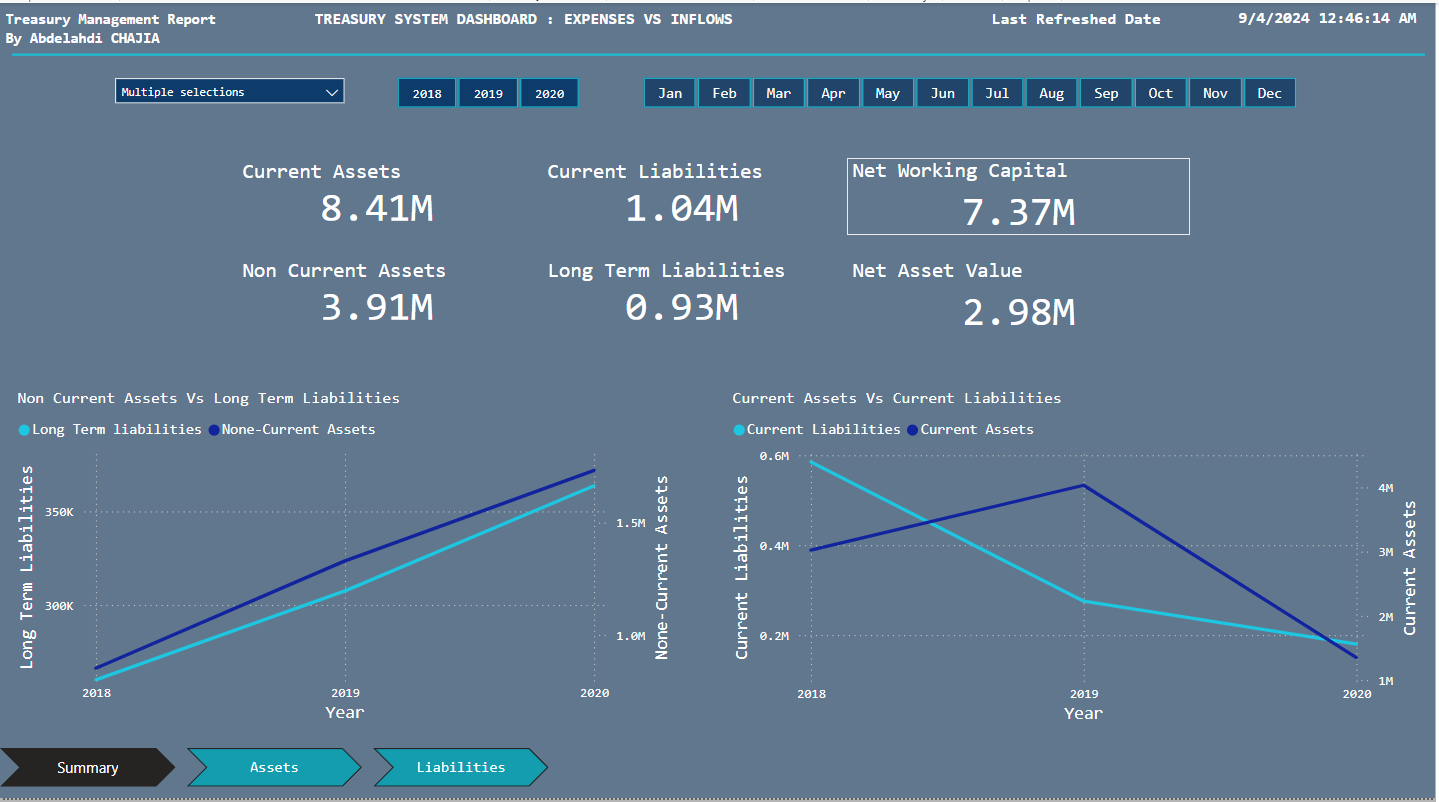

The dashboard page shown, as its layout file describes it:
{"tool":"powerbi","page":{"name":"Summary","canvas":[1300,720],"ordinal":0},"visuals":[{"type":"textbox","box":[279.6,0,567,33.6],"z":0},{"type":"textbox","box":[0,0,209.4,47.4],"z":1000},{"type":"card","fields":{"Values":["Min(Date & Time.Date & Time)"]},"box":[1103.9,0,196.6,24.1],"z":2000},{"type":"textbox","box":[893,0,185.7,33.6],"z":3000},{"type":"slicer","fields":{"Values":["GL.Classe"]},"box":[94.4,58.3,227.9,44.3],"z":4000},{"type":"slicer","fields":{"Values":["Calendar.Year"]},"box":[334.4,60.9,214.4,41.5],"z":5000},{"type":"slicer","fields":{"Values":["GL.Month"]},"box":[556.7,60.9,641.1,41.5],"z":6000},{"type":"shape","box":[10.9,41,1280,12.1],"z":7000},{"type":"pageNavigator","box":[0,674.7,497.9,35.6],"z":8000},{"type":"card","title":"Non Current Assets","fields":{"Values":["GL.None-Current Assets"]},"box":[215,230.9,252.9,61.2],"z":9000},{"type":"card","title":"Current Assets","fields":{"Values":["GL.Current Assets"]},"box":[215,141,252.9,61.2],"z":10000},{"type":"card","title":"Current Liabilities","fields":{"Values":["GL.Current Liabilities"]},"box":[490.7,141,252.9,61.2],"z":11000},{"type":"card","title":"Long Term Liabilities","fields":{"Values":["GL.Long Term liabilities"]},"box":[490.7,230.9,252.9,61.2],"z":12000},{"type":"lineChart","title":"Non Current Assets Vs Long Term Liabilities","fields":{"Category":["GL.Year"],"Y2":["GL.None-Current Assets"],"Y":["GL.Long Term liabilities"]},"box":[11.3,349.9,603.3,307.8],"z":13000},{"type":"lineChart","title":"Current Assets Vs Current  Liabilities","fields":{"Category":["GL.Year"],"Y2":["GL.Current Assets"],"Y":["GL.Current Liabilities"]},"box":[658.6,349.7,633.2,308],"z":14000},{"type":"card","title":"Net Working Capital","fields":{"Values":["GL.Net Working Capital"]},"box":[767.5,140.6,310.9,69.8],"z":14001},{"type":"card","title":"Net Asset Value","fields":{"Values":["GL.Net Asset Value"]},"box":[767.5,230.9,310.9,69.8],"z":14002}]}

Visuals, with their boxes in screenshot pixels (x1, y1, x2, y2), scaled from the page's 1300x720 canvas onto the 1439x802 screenshot:
textbox: (309, 0, 937, 37)
textbox: (0, 0, 232, 53)
card - Min(Date & Time.Date & Time): (1222, 0, 1438, 27)
textbox: (988, 0, 1194, 37)
slicer - GL.Classe: (104, 65, 357, 114)
slicer - Calendar.Year: (370, 68, 607, 114)
slicer - GL.Month: (616, 68, 1326, 114)
shape: (12, 46, 1429, 59)
pageNavigator: (0, 752, 551, 791)
"Non Current Assets" card: (238, 257, 518, 325)
"Current Assets" card: (238, 157, 518, 225)
"Current Liabilities" card: (543, 157, 823, 225)
"Long Term Liabilities" card: (543, 257, 823, 325)
"Non Current Assets Vs Long Term Liabilities" lineChart: (13, 390, 680, 733)
"Current Assets Vs Current  Liabilities" lineChart: (729, 390, 1430, 733)
"Net Working Capital" card: (850, 157, 1194, 234)
"Net Asset Value" card: (850, 257, 1194, 335)
